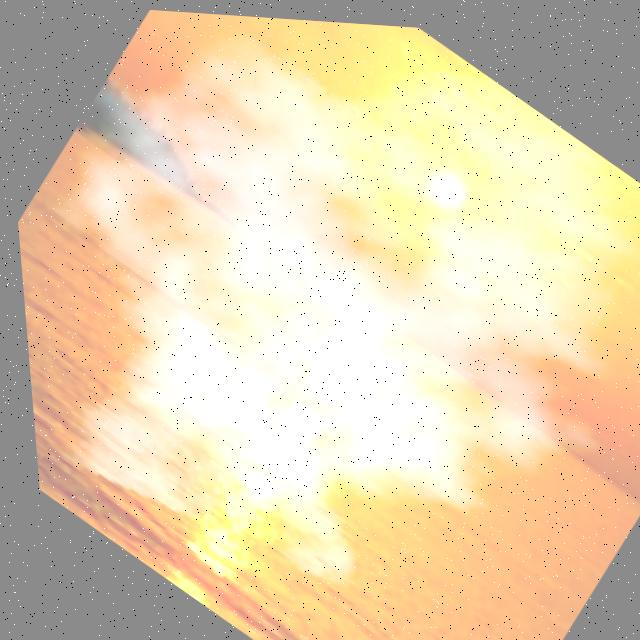Smoke: (14, 8, 640, 640)
